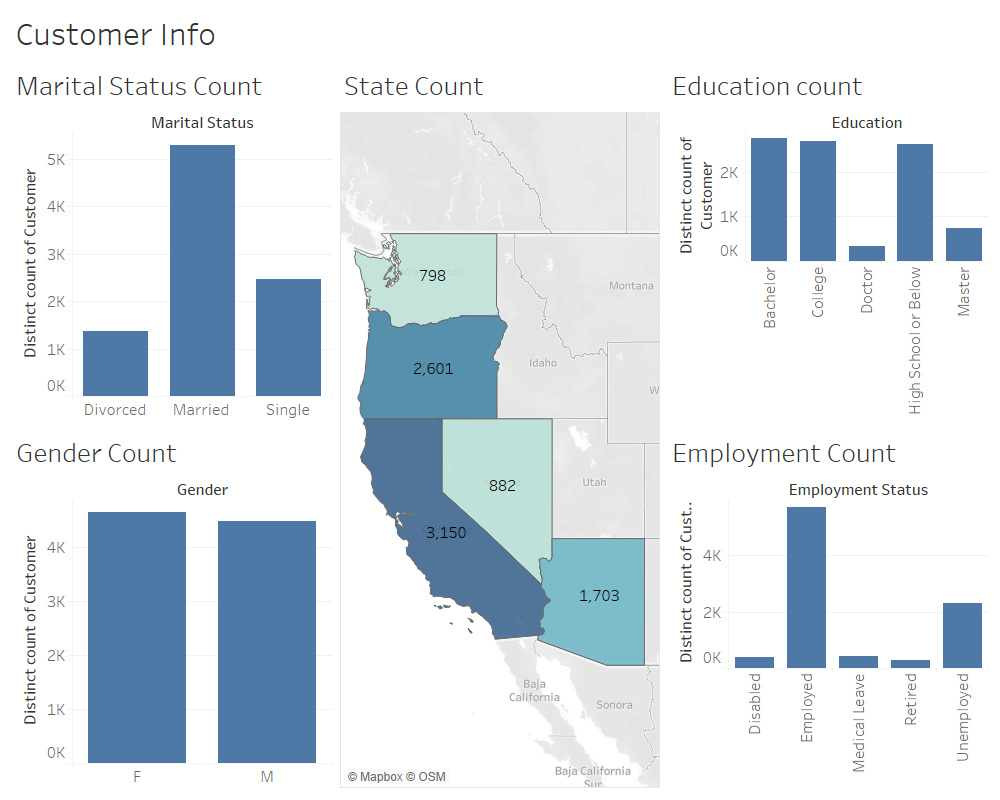

The page's visual inventory and layout, read from the dashboard file:
{"tool":"tableau","page":{"name":"Customer Info","canvas":[1000,800],"ordinal":1},"visuals":[{"type":"worksheet","box":[0,0,1000,800]},{"type":"worksheet","param":"horz","box":[8,8,984,784]},{"type":"worksheet","param":"vert","box":[8,8,984,784]},{"type":"worksheet","box":[8,8,984,50]},{"type":"worksheet","box":[8,58,984,734]},{"type":"worksheet","title":"Marital Status Count","mark":"Automatic","rows":["Customer"],"cols":["Marital Status"],"box":[8,58,328,367]},{"type":"worksheet","title":"State Count","mark":"Automatic","box":[336,58,328,734]},{"type":"worksheet","title":"Education Count","mark":"Automatic","rows":["Customer"],"cols":["Education"],"box":[664,58,328,367]},{"type":"worksheet","title":"Gender Count","mark":"Automatic","rows":["Customer"],"cols":["Gender"],"box":[8,425,328,367]},{"type":"worksheet","title":"Employment Count","mark":"Automatic","rows":["Customer"],"cols":["EmploymentStatus"],"box":[664,425,328,367]}]}

Visuals, with their boxes in screenshot pixels (x1, y1, x2, y2), scaled from the page's 1000x800 canvas onto the 1000x800 screenshot:
worksheet: pyautogui.locateOnScreen(0, 0, 999, 799)
worksheet: pyautogui.locateOnScreen(8, 8, 992, 792)
worksheet: pyautogui.locateOnScreen(8, 8, 992, 792)
worksheet: pyautogui.locateOnScreen(8, 8, 992, 58)
worksheet: pyautogui.locateOnScreen(8, 58, 992, 792)
"Marital Status Count" worksheet: pyautogui.locateOnScreen(8, 58, 336, 425)
"State Count" worksheet: pyautogui.locateOnScreen(336, 58, 664, 792)
"Education Count" worksheet: pyautogui.locateOnScreen(664, 58, 992, 425)
"Gender Count" worksheet: pyautogui.locateOnScreen(8, 425, 336, 792)
"Employment Count" worksheet: pyautogui.locateOnScreen(664, 425, 992, 792)
